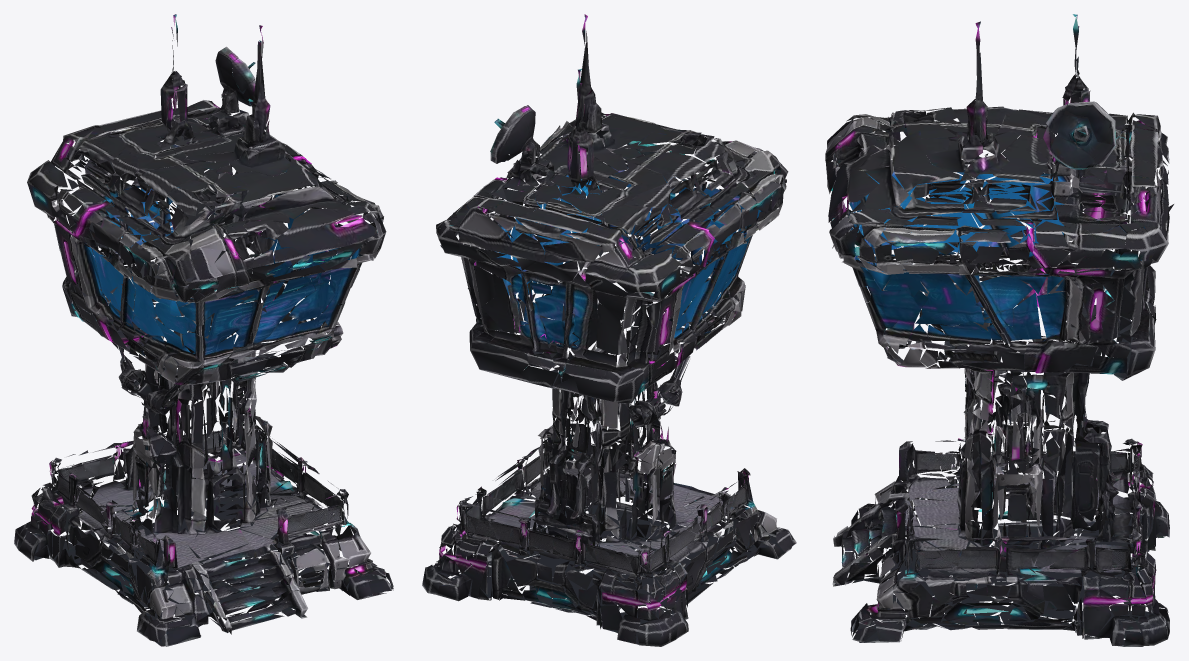
File: control-tower-png.glb
3 views of the same model, side by side, from view 1: azimuth 30°, elevation 25°; view 2: azimuth 150°, elevation 25°; view 3: azimuth 270°, elevation 25° (orthographic). The views are drawn at different scales.
Parts seen in each view (by area): view 1: Mesh_0; view 2: Mesh_0; view 3: Mesh_0.
Boxes of the visible parts, x1,y1,x2,y2 form: Mesh_0: (14, 14, 393, 646); Mesh_0: (422, 14, 796, 646); Mesh_0: (825, 14, 1173, 646).
Bounding box in the file's own units: 0.4878 × 0.9893 × 0.5393.
1 material, 1 textured.
